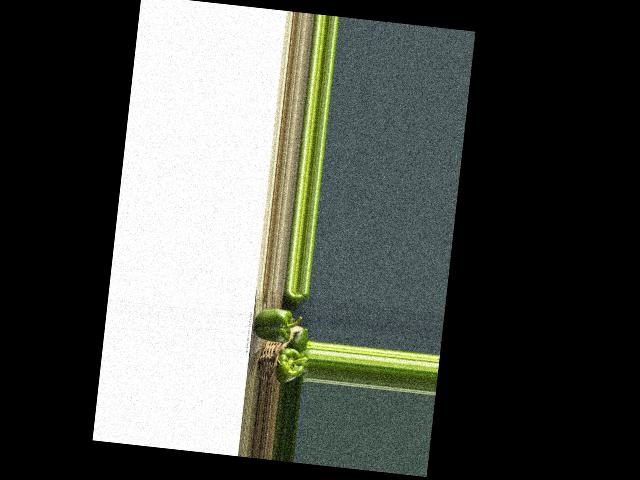bell_pepper: (286, 290, 308, 305)
